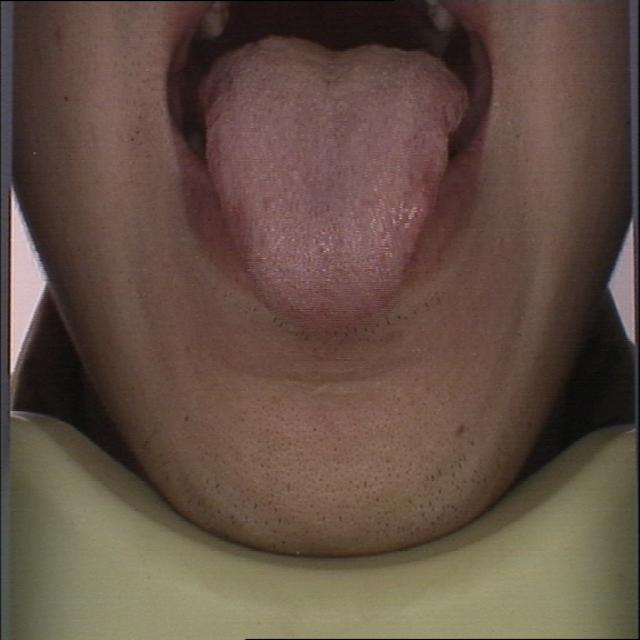tongue: (194, 29, 475, 327)
